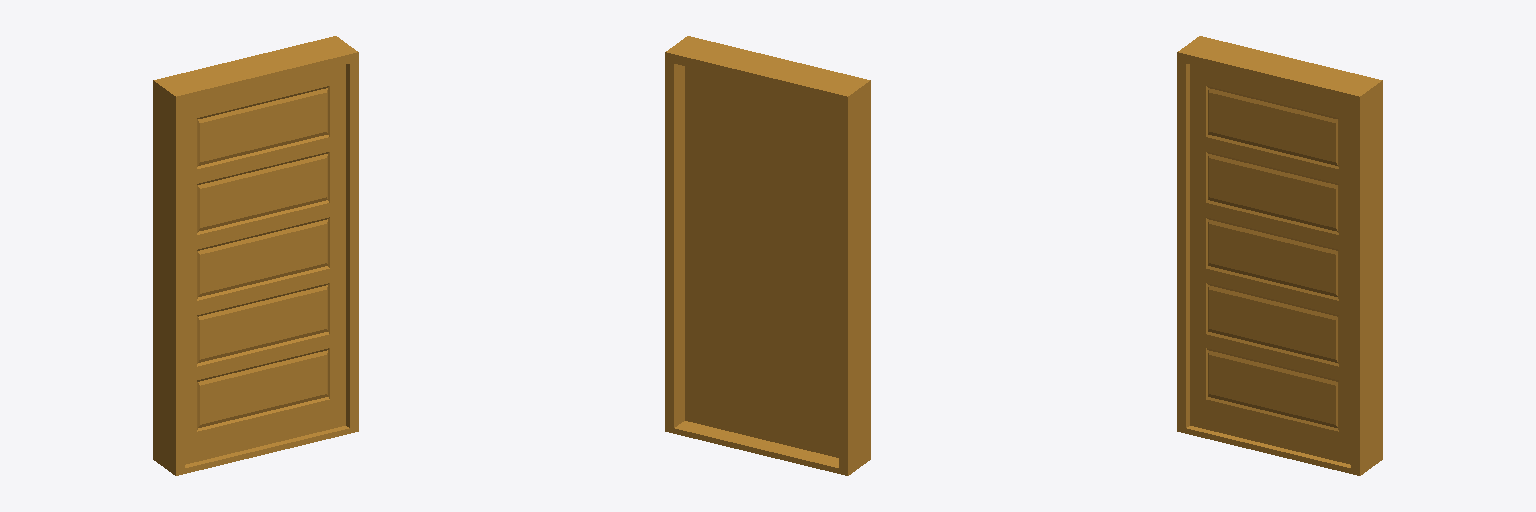
File: doors.obj
3 views of the same model, side by side, from view 1: azimuth 30°, elevation 25°; view 2: azimuth 150°, elevation 25°; view 3: azimuth 330°, elevation 25° (orthographic).
Parts seen in each view (by area): view 1: doors; view 2: doors; view 3: doors.
Part boxes in pixels (x1,y1,x2,y2): doors: (153, 36, 358, 475); doors: (665, 36, 870, 475); doors: (1177, 36, 1382, 475).
Bounding box in the file's own units: 1.04 × 2.06 × 0.22.